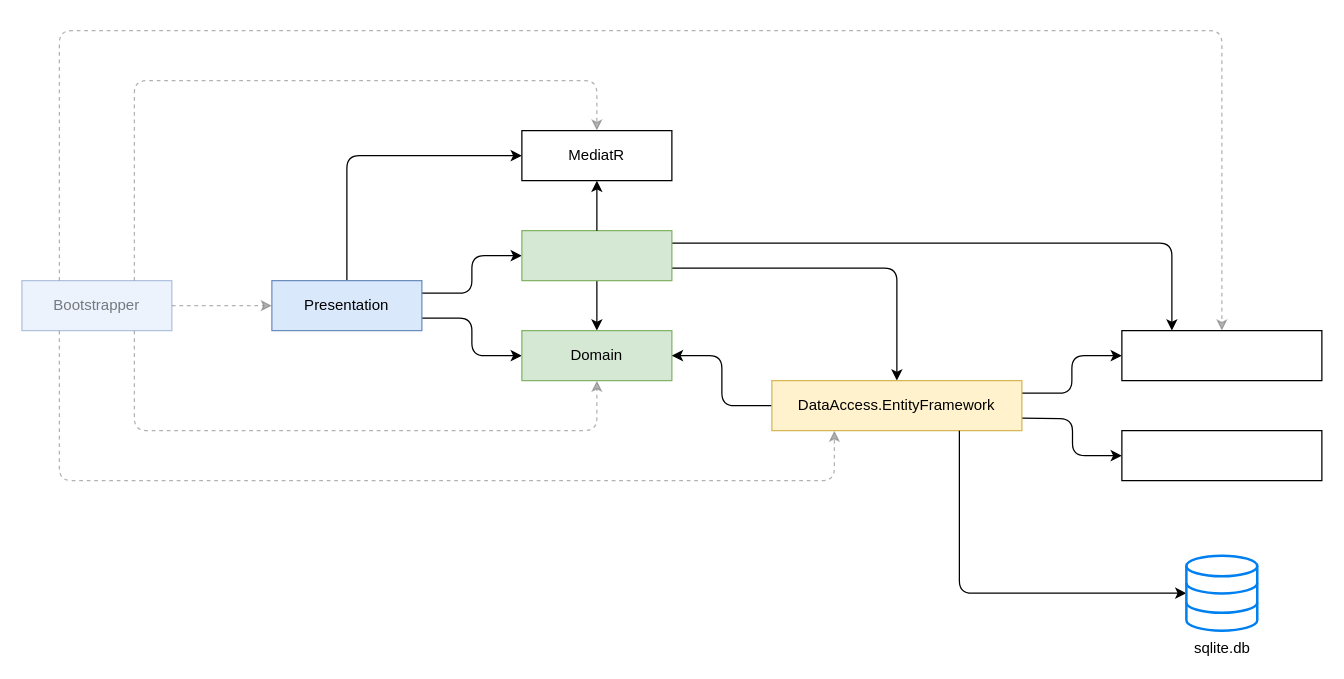
Image size: 1344x679. Some labels were removed from this diagram. The centre of each missing label's shape, as x and y in pixels:
"Application" belongs at (x=596, y=255).
"Entity Framework Core" belongs at (x=1221, y=355).
"Microsoft.Data.Sqlite" belongs at (x=1221, y=455).
